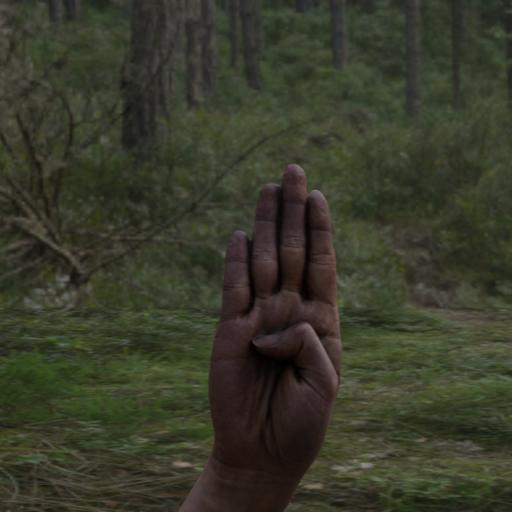B: (200, 160, 349, 462)
